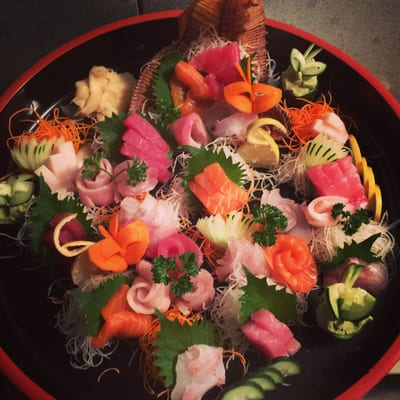sushi: (0, 5, 398, 366)
